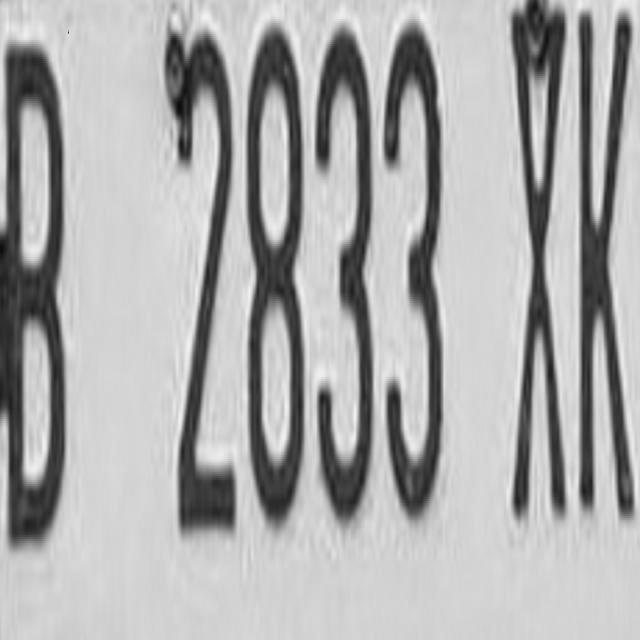2: (175, 18, 232, 533)
3: (310, 21, 374, 516), (380, 16, 442, 524)
8: (248, 21, 300, 504)
B: (0, 31, 96, 594)
K: (568, 15, 640, 513)
X: (503, 11, 569, 520)
